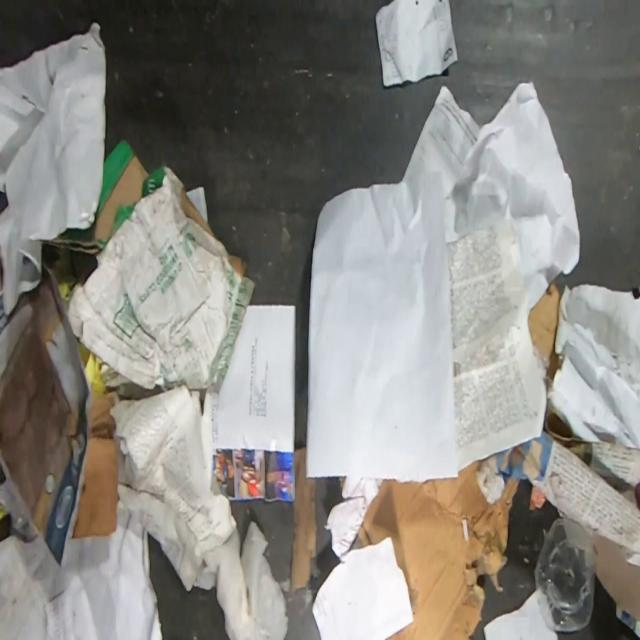cardboard: (67, 140, 256, 393), (347, 460, 519, 640), (484, 429, 640, 557), (72, 391, 120, 539), (290, 445, 319, 592), (528, 284, 562, 382)
rigid_plastic: (534, 517, 596, 631)
